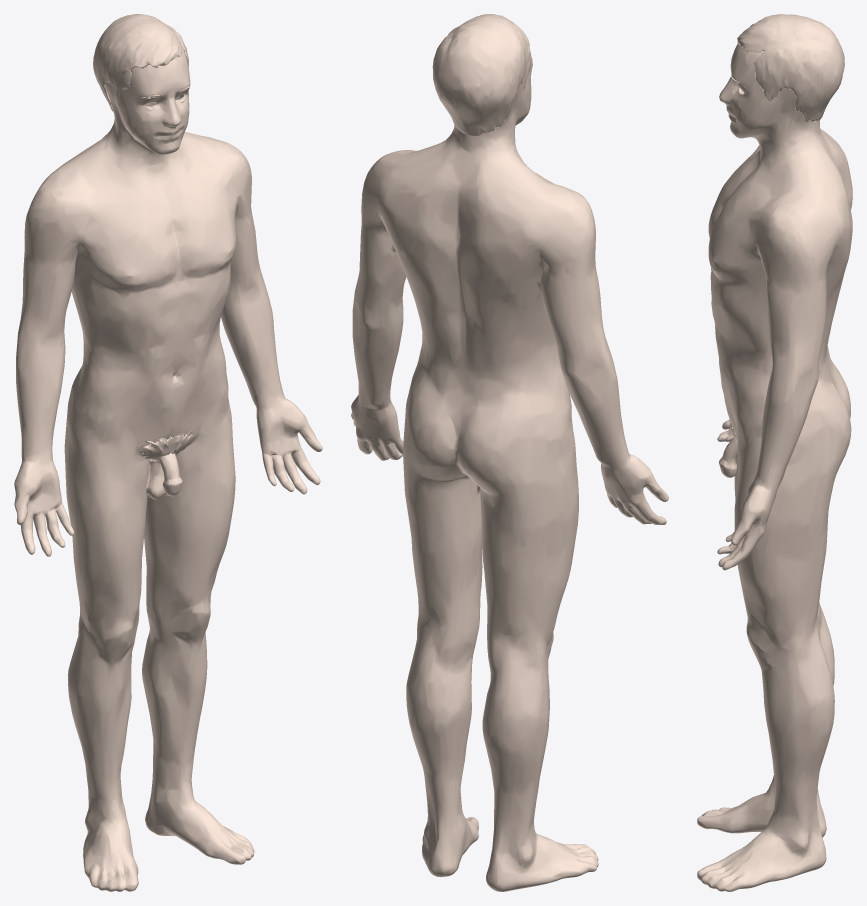
Rendered from pelle.glb.
3 views of the same model, side by side, from view 1: azimuth 30°, elevation 25°; view 2: azimuth 150°, elevation 25°; view 3: azimuth 270°, elevation 25° (orthographic). The views are drawn at different scales.
Parts seen in each view (by area): view 1: FJ2810, FJ2813, FJ2815; view 2: FJ2810, FJ2813; view 3: FJ2810, FJ2813.
Part boxes in pixels (left/top/right/bottom): FJ2810: left=14, top=46, right=322, bottom=891; FJ2813: left=93, top=14, right=188, bottom=111; FJ2815: left=140, top=429, right=195, bottom=461; FJ2810: left=351, top=53, right=668, bottom=891; FJ2813: left=432, top=14, right=530, bottom=135; FJ2810: left=697, top=44, right=852, bottom=891; FJ2813: left=737, top=14, right=844, bottom=122.
Bounding box in the file's own units: 0.6667 × 1.73 × 0.2919.
